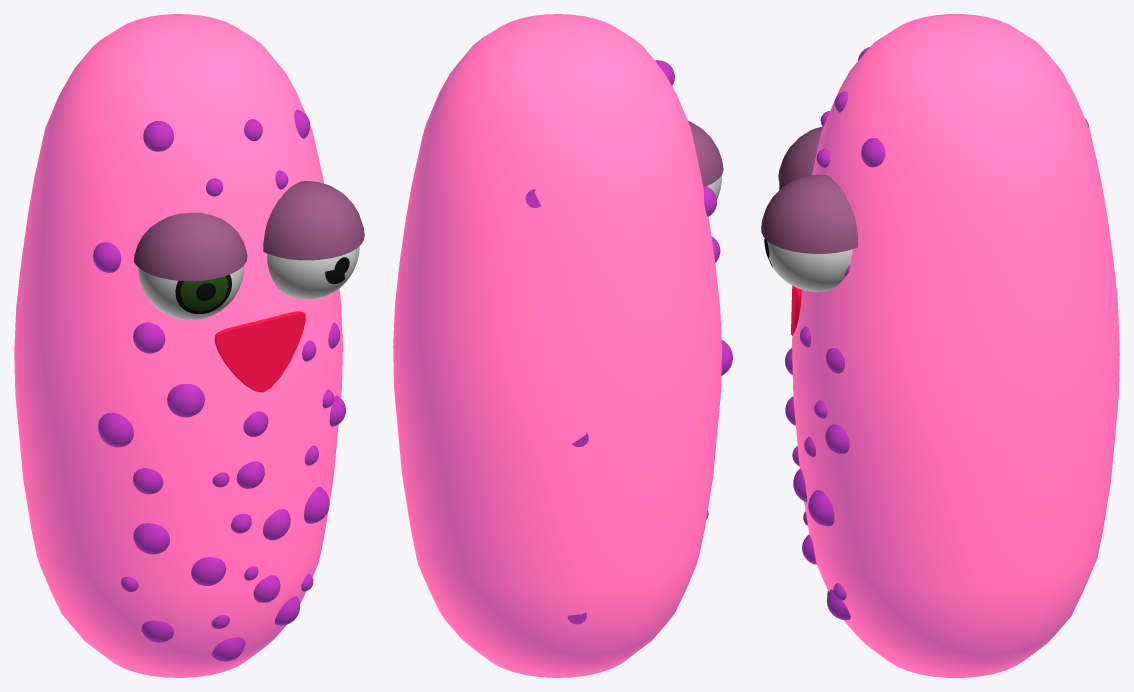
File: PISHI.FBX
3 views of the same model, side by side, from view 1: azimuth 30°, elevation 25°; view 2: azimuth 150°, elevation 25°; view 3: azimuth 270°, elevation 25° (orthographic).
Parts seen in each view (by area): view 1: Sphere001, Sphere005, Sphere004, Line001, Sphere002, Sphere039, Sphere026, Sphere028, Sphere017, Sphere006, Sphere027, Sphere031 (+8 smaller); view 2: Sphere001, Sphere004; view 3: Sphere001, Sphere005, Sphere039, Sphere004, Sphere019, Sphere035, Sphere020.
Boxes of the visible parts, bbox=[...] form: Sphere001: bbox=[14, 14, 342, 677]; Sphere005: bbox=[263, 181, 364, 260]; Sphere004: bbox=[133, 212, 247, 281]; Line001: bbox=[214, 311, 305, 392]; Sphere002: bbox=[138, 266, 243, 319]; Sphere039: bbox=[267, 246, 359, 299]; Sphere026: bbox=[167, 384, 204, 417]; Sphere028: bbox=[98, 412, 133, 447]; Sphere017: bbox=[133, 523, 169, 554]; Sphere006: bbox=[191, 557, 226, 585]; Sphere027: bbox=[133, 322, 165, 353]; Sphere031: bbox=[143, 120, 173, 151]; Sphere001: bbox=[393, 14, 721, 677]; Sphere004: bbox=[688, 121, 723, 186]; Sphere001: bbox=[792, 14, 1119, 677]; Sphere005: bbox=[761, 174, 857, 253]; Sphere039: bbox=[764, 238, 852, 291]; Sphere004: bbox=[778, 126, 822, 186]; Sphere019: bbox=[808, 490, 834, 526]; Sphere035: bbox=[861, 138, 885, 167]; Sphere020: bbox=[825, 424, 849, 453].
Bounding box in the file's own units: 113 × 242 × 124.
